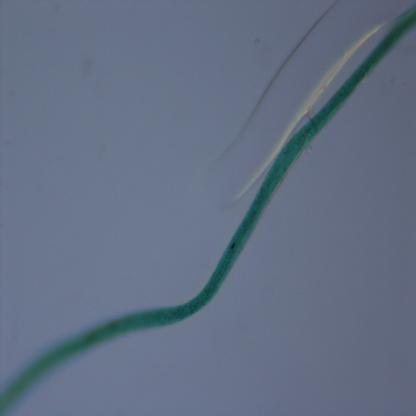Air bubble: (238, 4, 350, 141)
Microfibre: (0, 10, 416, 414)
